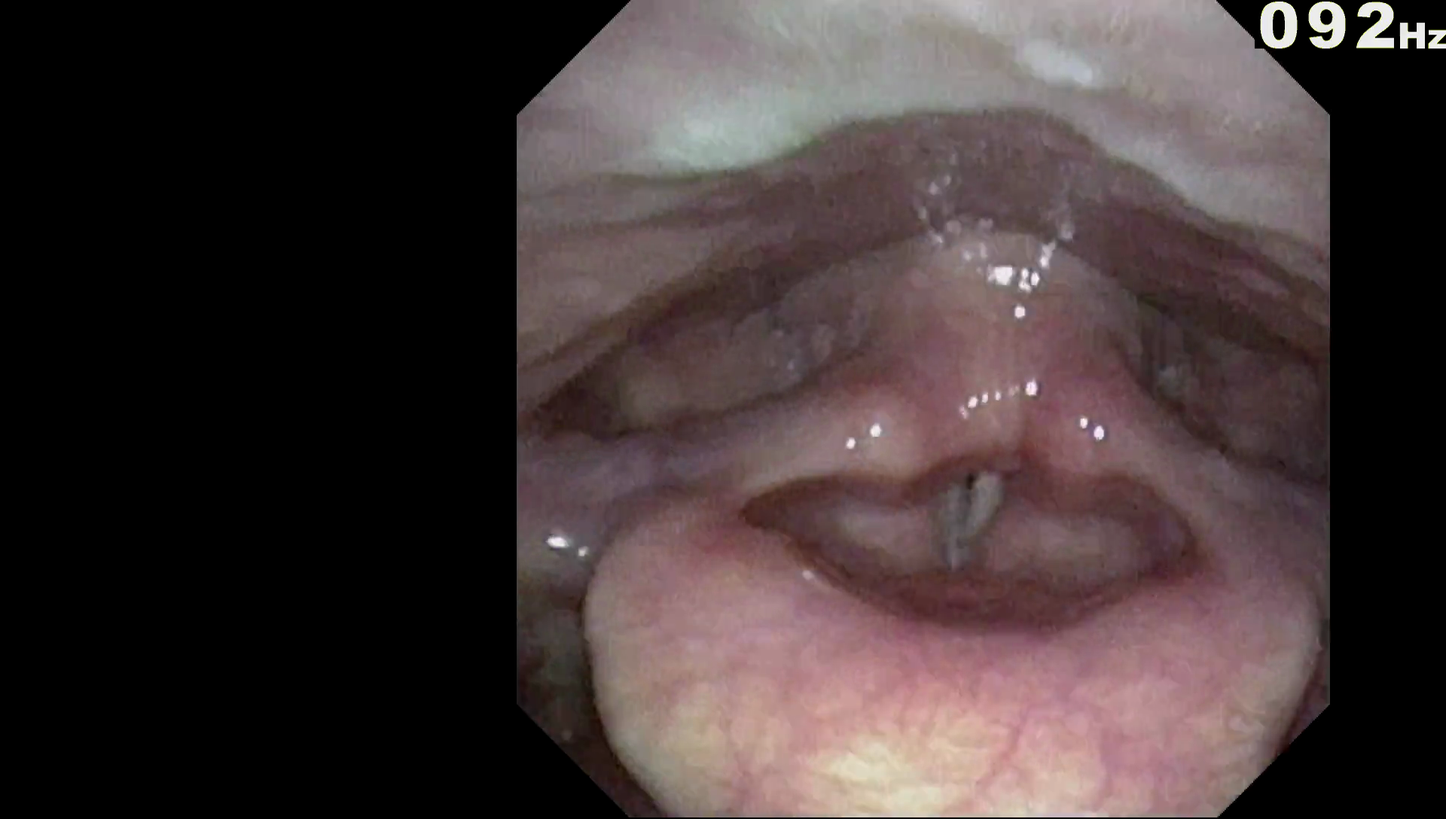trachea: (913, 439, 1035, 593)
